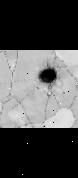good_void: (36, 65, 59, 91), (59, 87, 68, 97), (34, 85, 40, 91)
